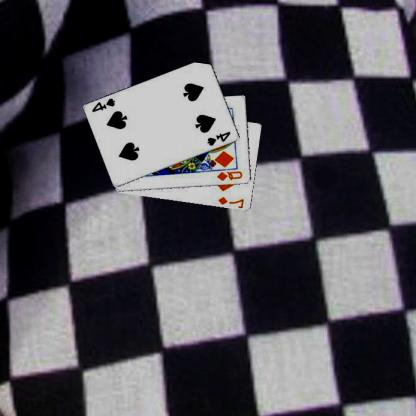4S: (207, 129, 234, 147), (92, 96, 118, 113)
7D: (218, 194, 247, 209)
QD: (216, 168, 246, 182)
